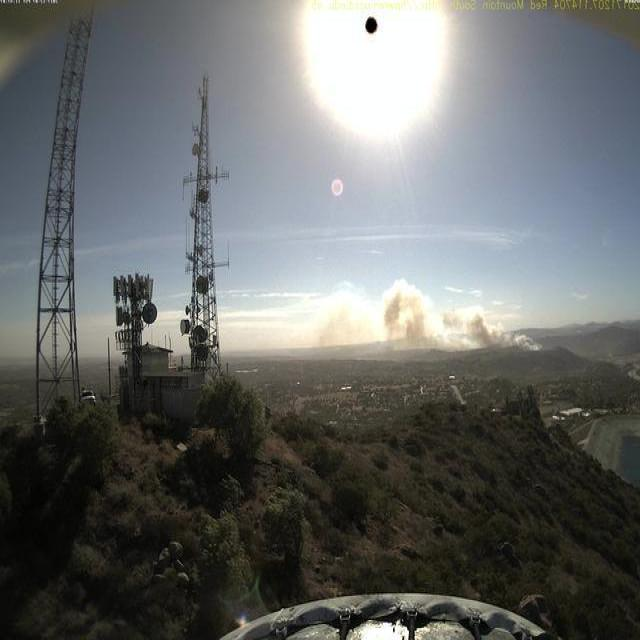Smoke: (305, 272, 544, 356)
